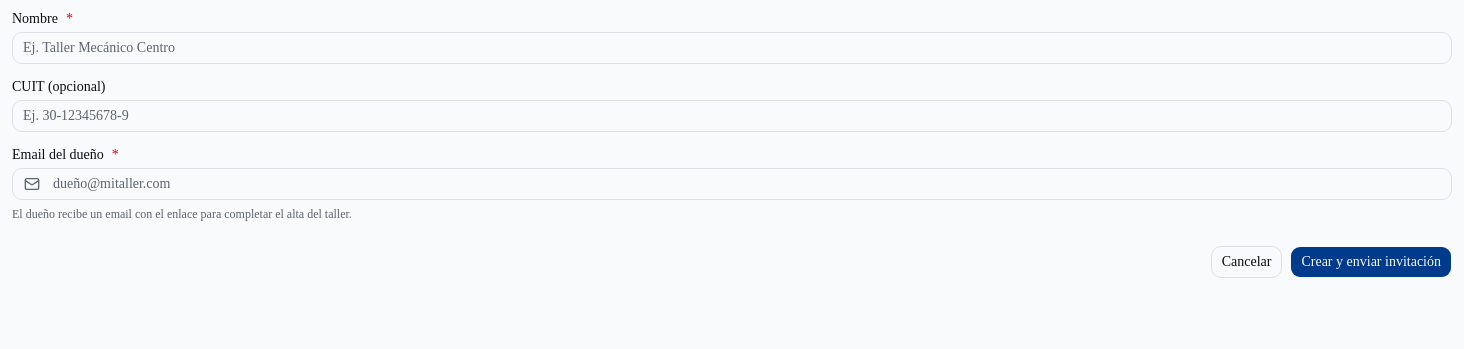
Test: CreateAdminWorkshopForm › 409 CONFLICT por CUIT → copy específico, nunca message crudo
The image size is (1464, 349).
Type "Otro Taller" into the field labelled "Nombre *".
click(732, 48); type("Otro Taller")  # box [12,32,1452,64]
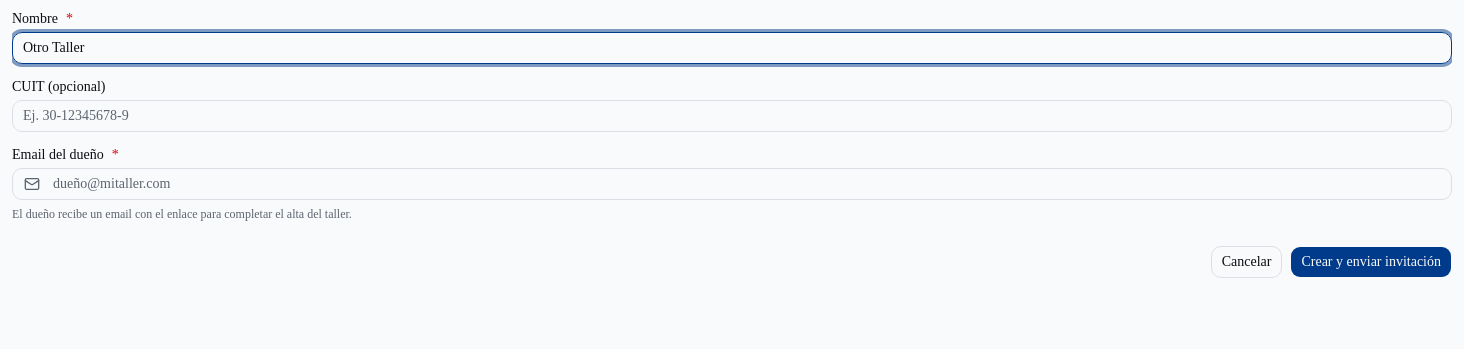
Type "otro@taller.com" into the field labelled "Email del dueño *".
click(732, 184); type("otro@taller.com")  # box [12,168,1452,200]
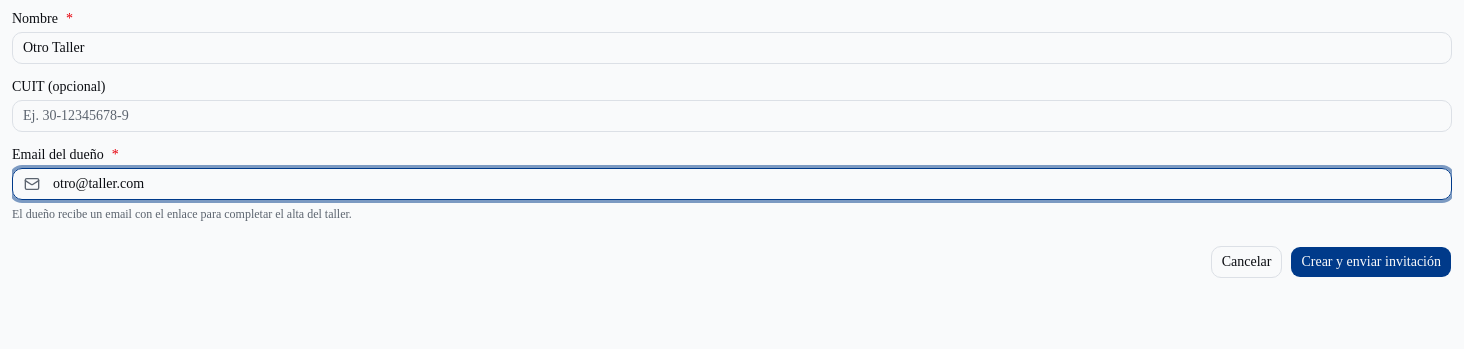
Click the button "Crear y enviar invitación".
click(1371, 262)  # box [1290,246,1452,278]
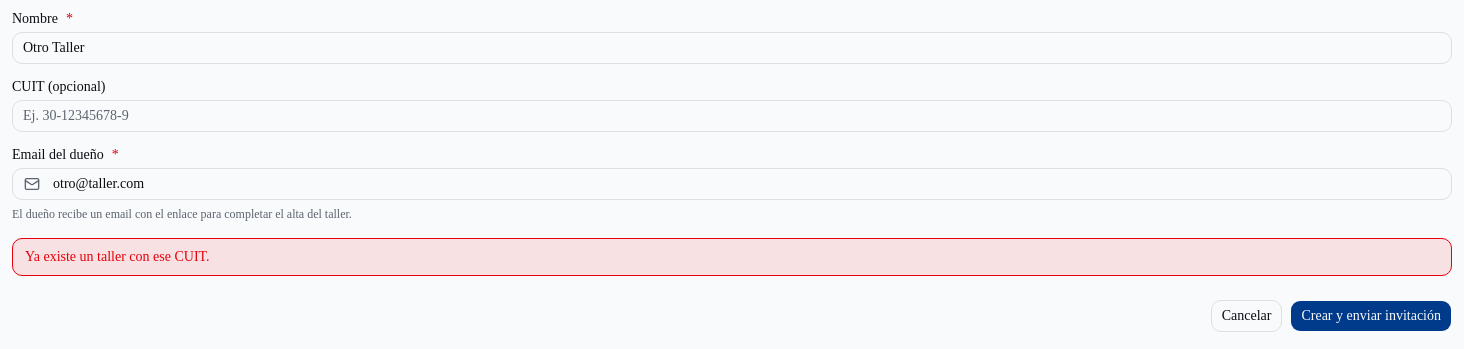
expect the message does not show "message": met, box [12,238,1452,276]
expect the message reads "Ya existe un taller con ese CUIT.": met, box [25,249,210,264]
